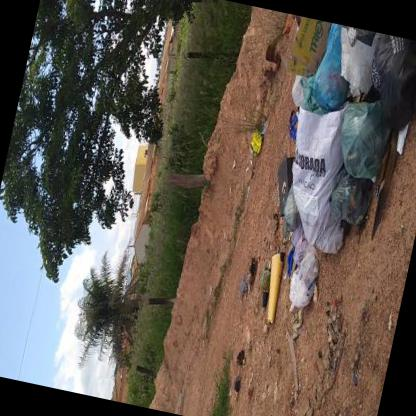lixo: (247, 17, 415, 342)
